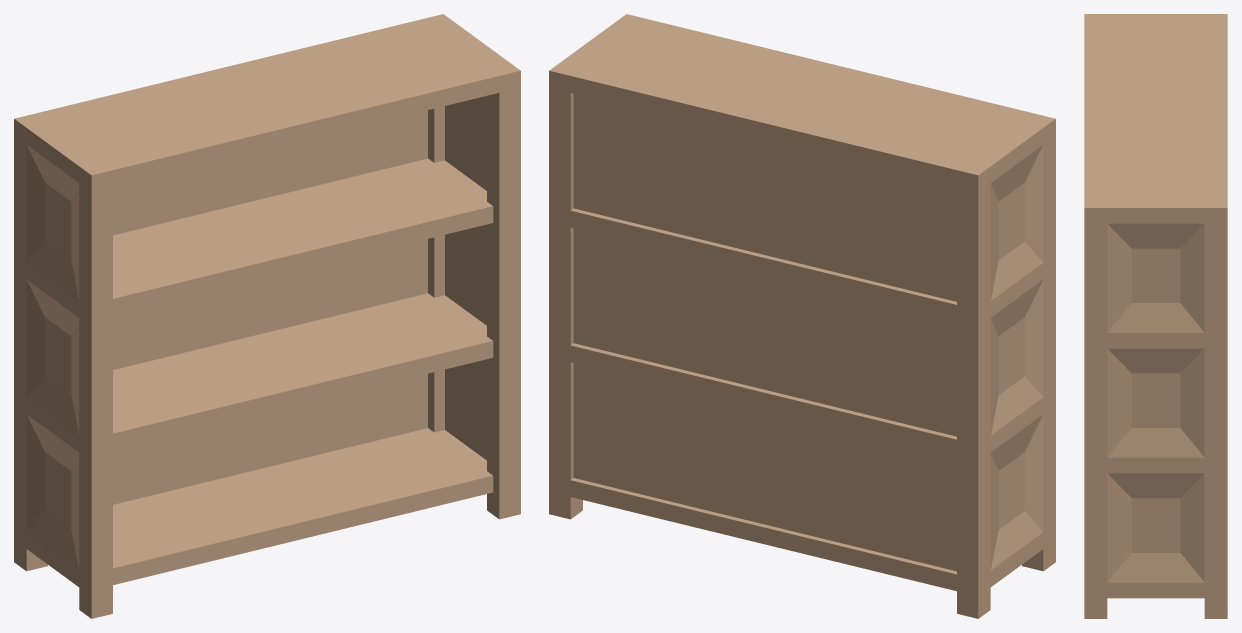
The model's file is bookcaseClosedWide.glb.
3 views of the same model, side by side, from view 1: azimuth 30°, elevation 25°; view 2: azimuth 150°, elevation 25°; view 3: azimuth 270°, elevation 25° (orthographic). The views are drawn at different scales.
Parts seen in each view (by area): view 1: bookcaseClosedWide; view 2: bookcaseClosedWide; view 3: bookcaseClosedWide.
Boxes of the visible parts, <box> form: bookcaseClosedWide: <box>14,14,520,618</box>; bookcaseClosedWide: <box>549,14,1055,618</box>; bookcaseClosedWide: <box>1084,14,1227,618</box>.
Bounding box in the file's own units: 0.8 × 0.79 × 0.25.
